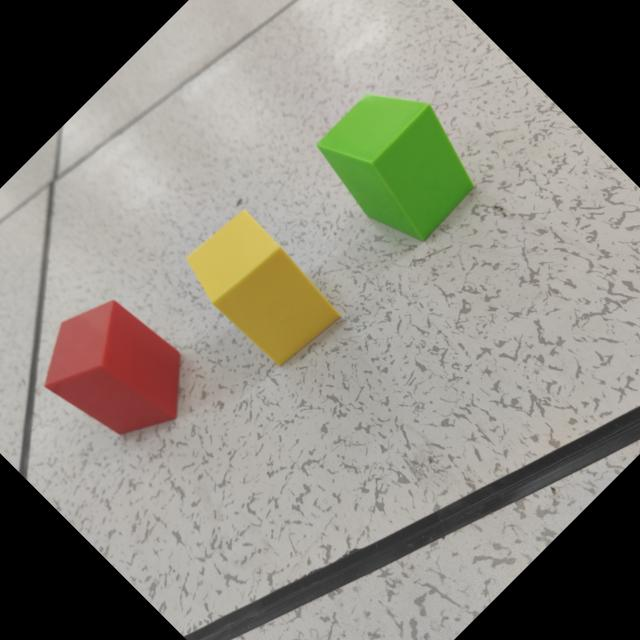green: (318, 93, 476, 242)
red: (44, 300, 183, 435)
yellow: (187, 208, 340, 366)
